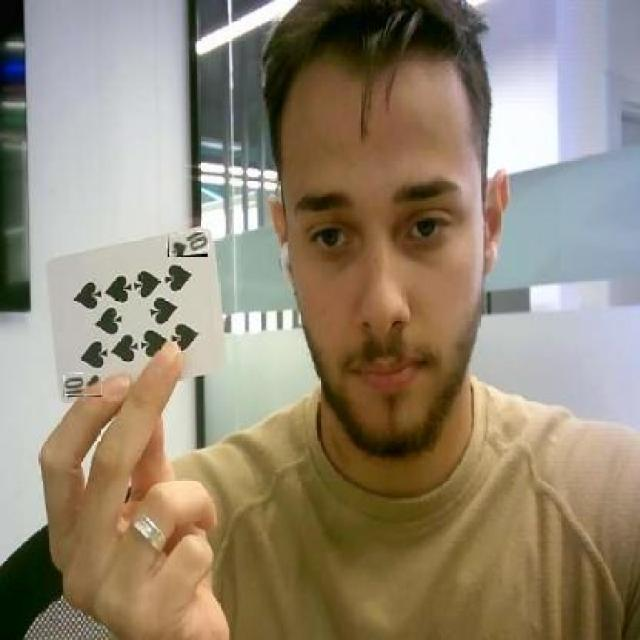10S: (168, 232, 208, 257), (63, 374, 102, 397)
